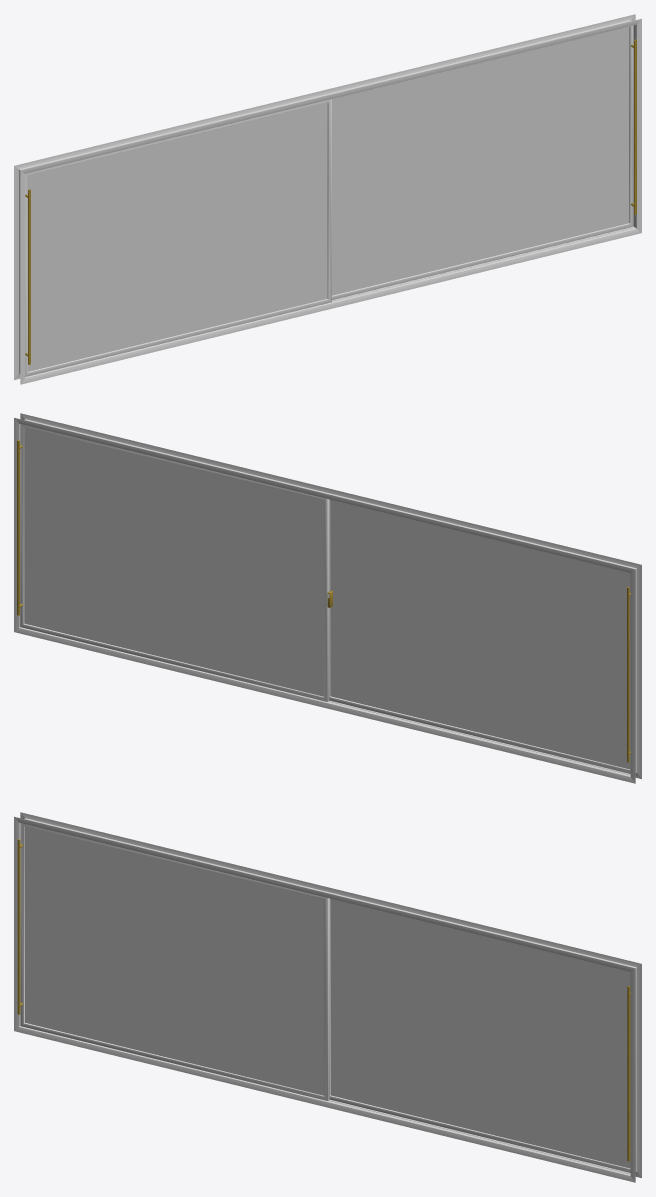
The model's file is Windows.fbx.
3 views of the same model, one above another, from view 1: azimuth 30°, elevation 25°; view 2: azimuth 150°, elevation 25°; view 3: azimuth 330°, elevation 25° (orthographic).
Visible parts, largest first — view 1: Window2, Window, Wndow Frame; view 2: Window, Window2, Wndow Frame; view 3: Window2, Window, Wndow Frame.
Part boxes in pixels (<box>): Window2: <box>25,99,331,376</box>; Window: <box>332,25,636,299</box>; Wndow Frame: <box>14,14,641,384</box>; Window: <box>17,424,332,701</box>; Window2: <box>329,499,630,773</box>; Wndow Frame: <box>14,413,641,783</box>; Window2: <box>17,823,329,1100</box>; Window: <box>330,898,635,1172</box>; Wndow Frame: <box>14,812,641,1182</box>.
Bounding box in the file's own units: 580 × 191 × 18.86.
3 materials, 2 textured.
